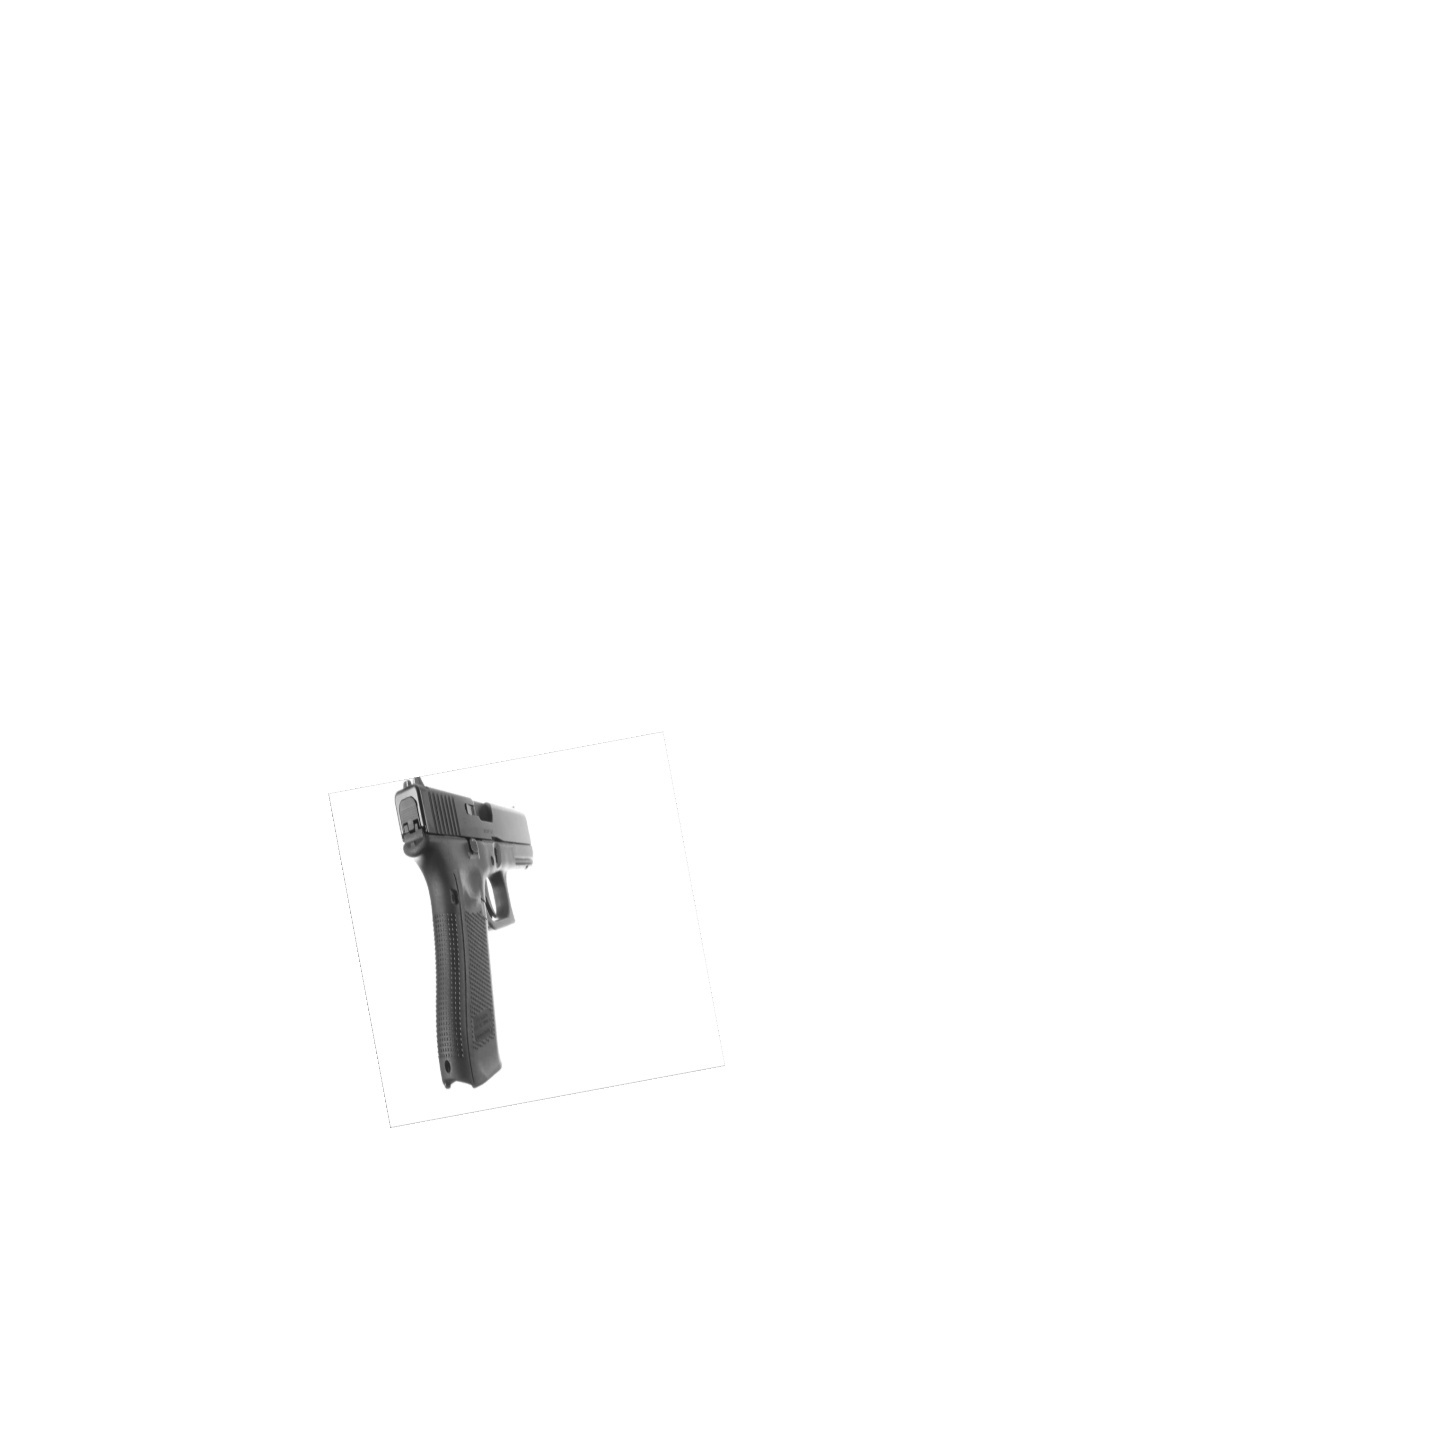gun: (391, 780, 537, 1090)
